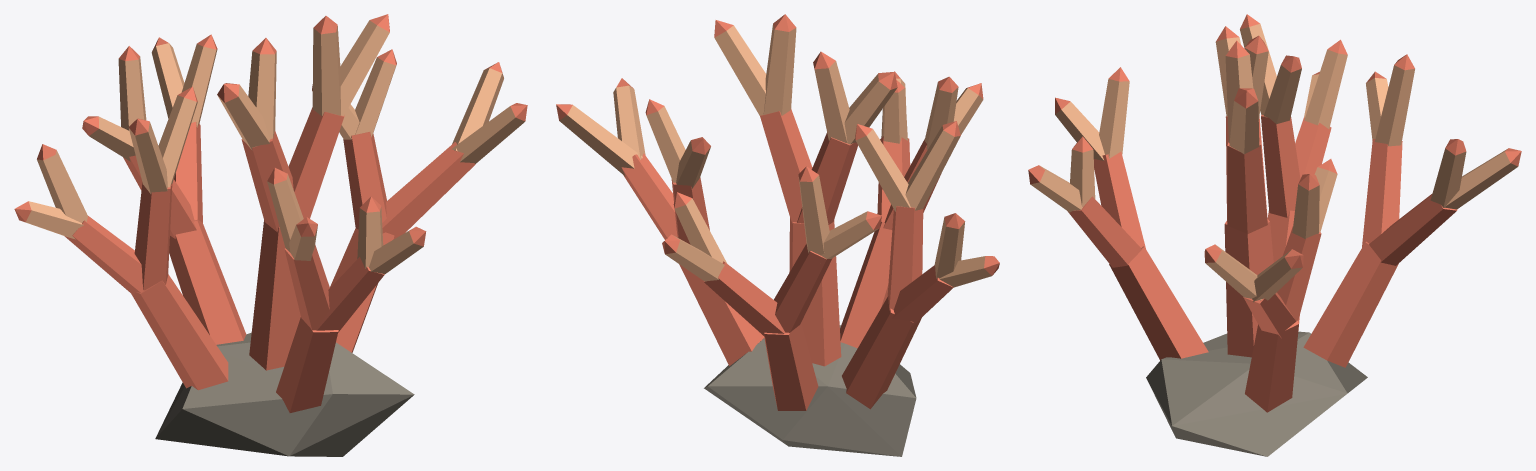
The model's file is coral_a.glb.
3 renders of one model, left to right at view 1: azimuth 30°, elevation 25°; view 2: azimuth 150°, elevation 25°; view 3: azimuth 270°, elevation 25°, orthographic. The views are drawn at different scales.
Parts seen in each view (by area): view 1: coral_a; view 2: coral_a; view 3: coral_a.
Boxes of the visible parts, x1,y1,x2,y2 form: coral_a: (14,14,527,456); coral_a: (556,14,999,456); coral_a: (1028,14,1521,456).
Bounding box in the file's own units: 1.28 × 1.07 × 1.18.
